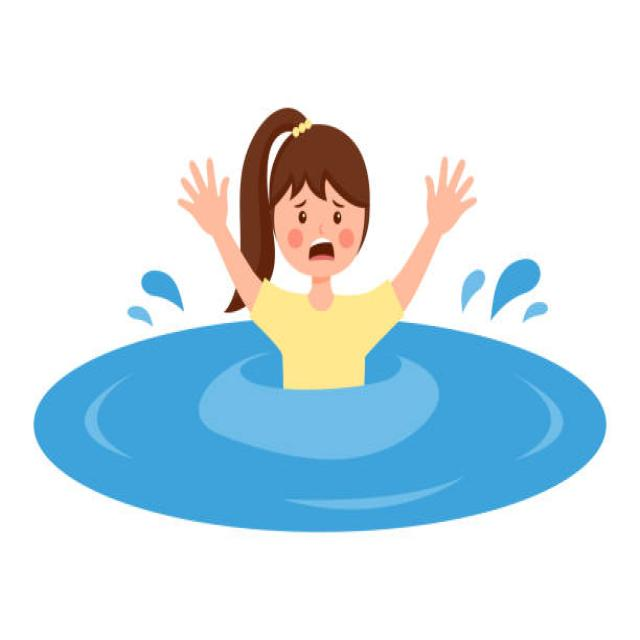drowning: (153, 80, 493, 430)
